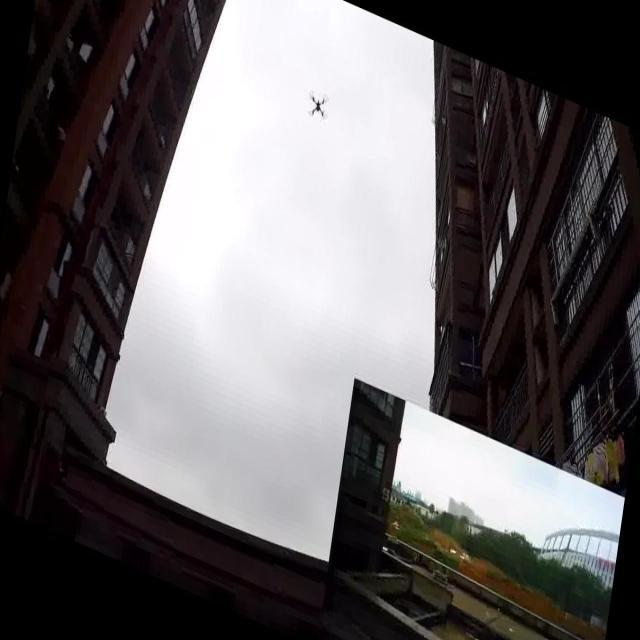drone: (302, 86, 332, 126)
